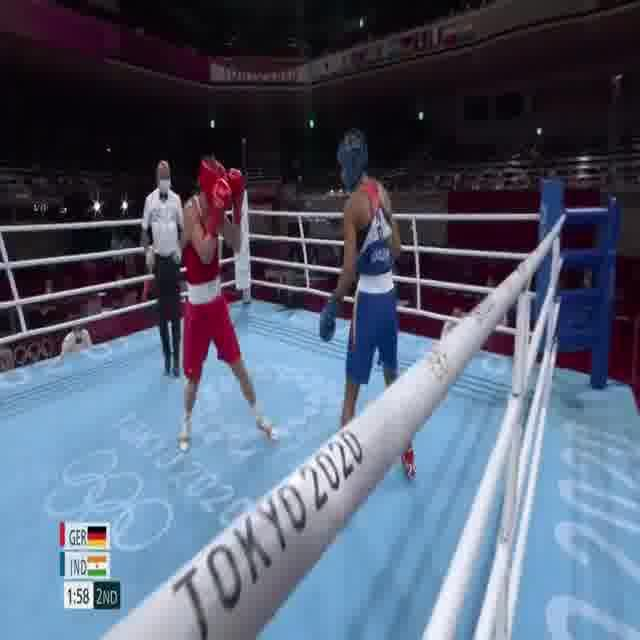blue-player: (318, 128, 420, 486)
red-player: (175, 152, 283, 454)
referee: (140, 160, 193, 382)
